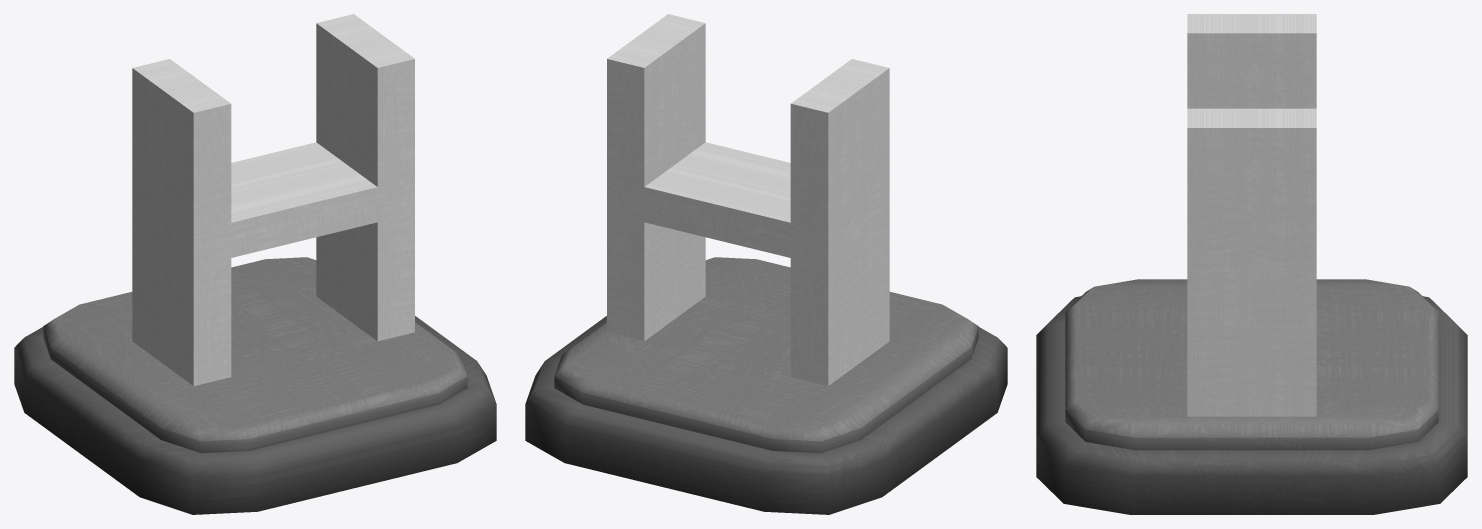
Rendered from Statue Letter H Hand.fbx.
3 views of the same model, side by side, from view 1: azimuth 30°, elevation 25°; view 2: azimuth 150°, elevation 25°; view 3: azimuth 270°, elevation 25° (orthographic). The views are drawn at different scales.
Parts seen in each view (by area): view 1: StatueBase (1), Letter; view 2: StatueBase (1), Letter; view 3: StatueBase (1), Letter.
Part boxes in pixels (box(x1,y1,x2,y2)): StatueBase (1): box(14, 257, 496, 514); Letter: box(132, 14, 414, 385); StatueBase (1): box(525, 257, 1007, 514); Letter: box(607, 14, 889, 385); StatueBase (1): box(1036, 279, 1467, 514); Letter: box(1187, 14, 1316, 416).
Size of the model in its own units: 0.9118 by 0.8657 by 0.9299.
